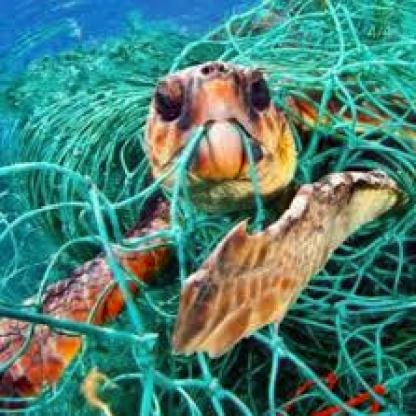net: (13, 22, 416, 416)
